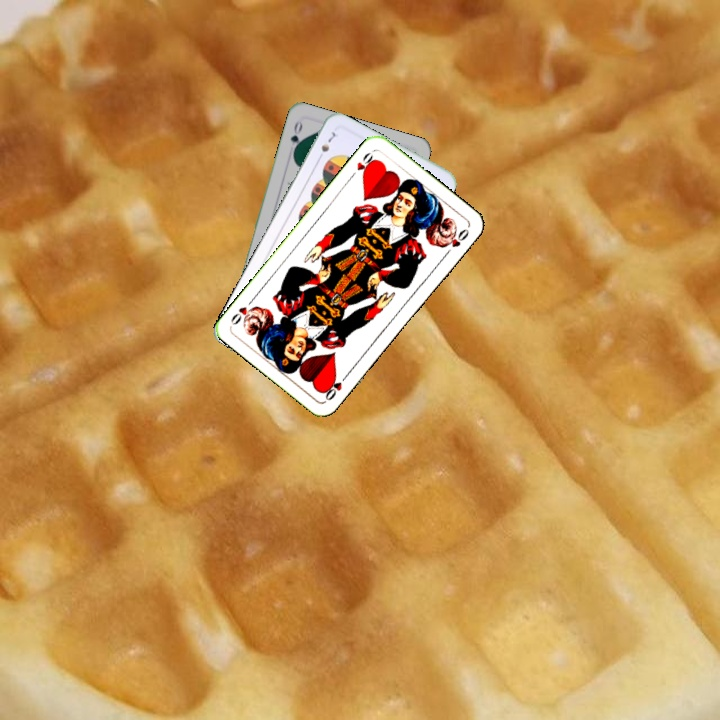GO: (286, 117, 305, 157)
HO: (346, 148, 378, 181), (320, 369, 351, 403)
S7: (313, 128, 338, 163)
